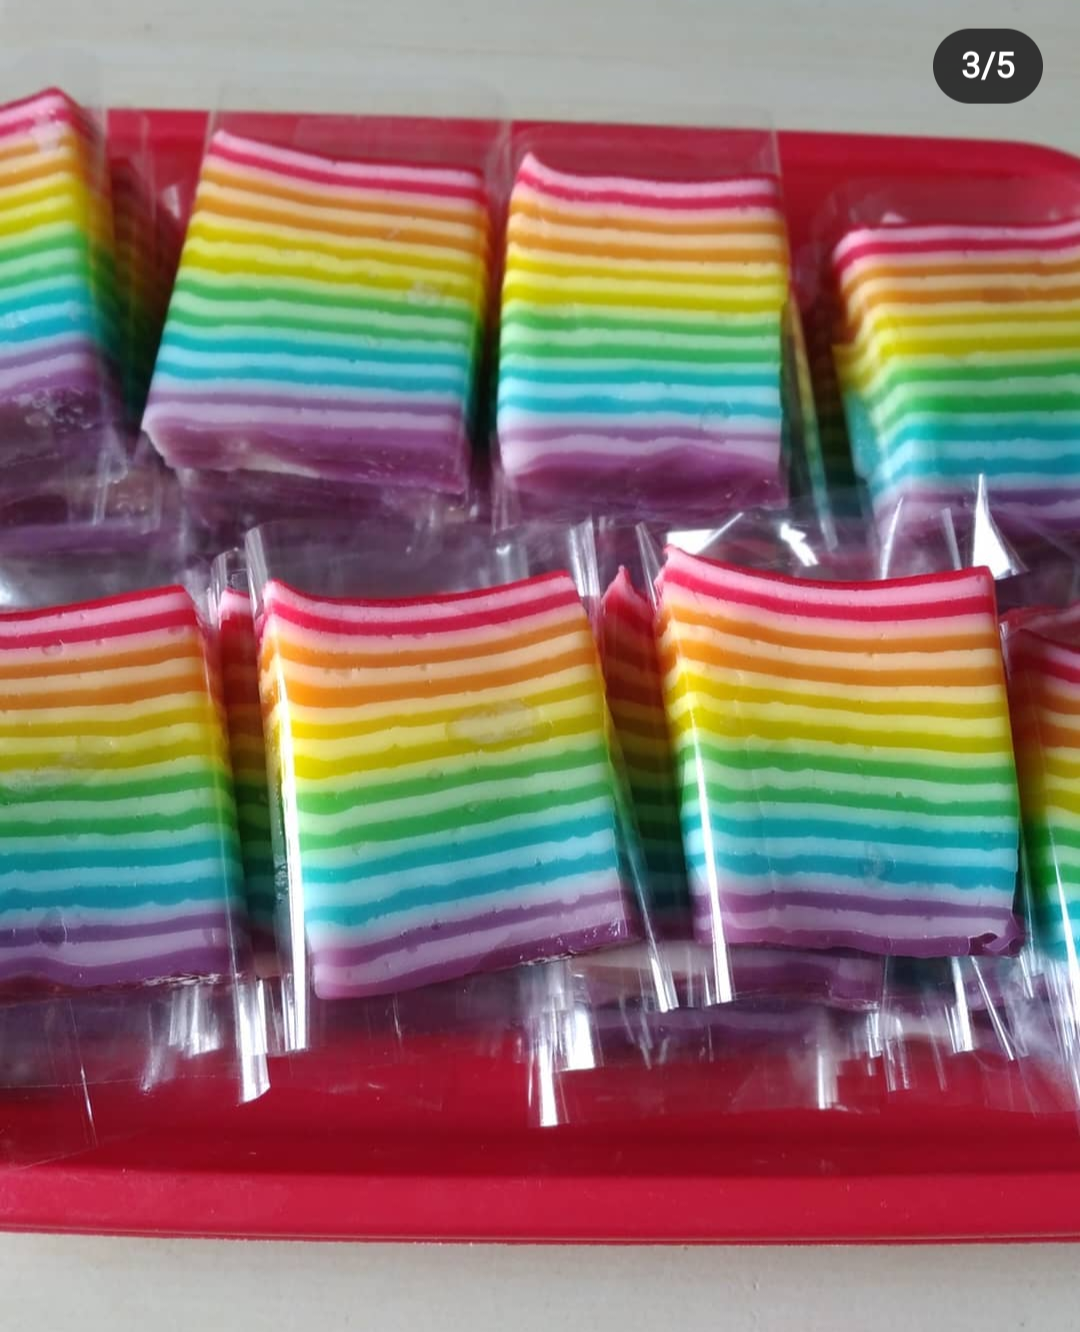kue_lapis_pelangi: (246, 577, 629, 997), (656, 554, 1036, 955), (134, 126, 477, 501), (499, 149, 796, 509)
